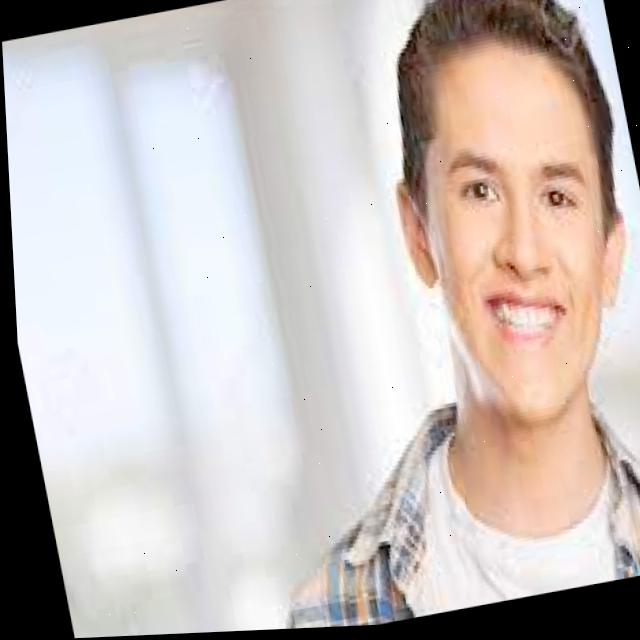happy: (385, 0, 640, 446)
